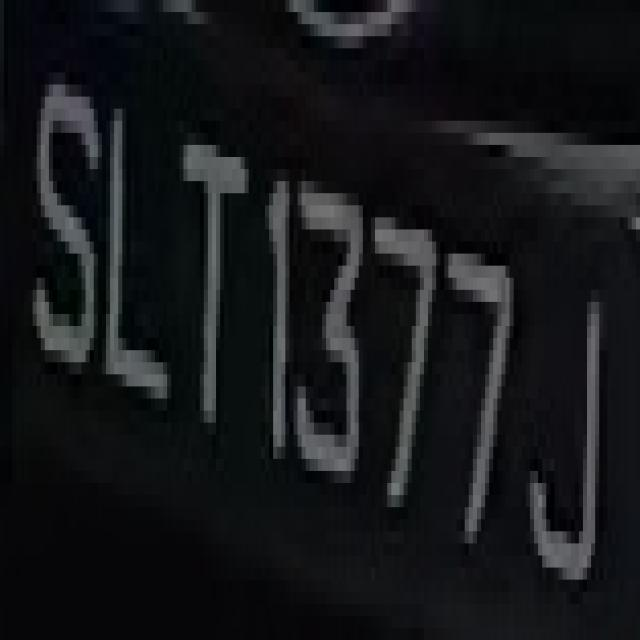1: (261, 133, 302, 507)
3: (297, 96, 367, 544)
7: (363, 120, 436, 580), (436, 217, 522, 580)
J: (530, 217, 615, 616)
L: (102, 72, 175, 459)
S: (28, 48, 102, 374)
T: (175, 85, 253, 483)
